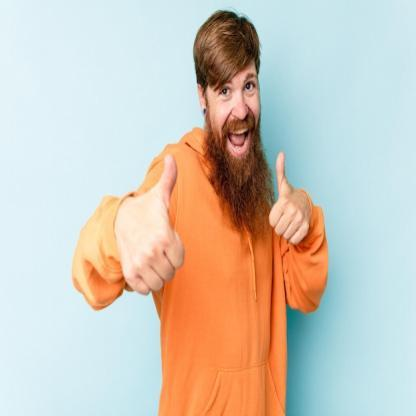thumb_up: (114, 152, 186, 300), (267, 149, 311, 247)
